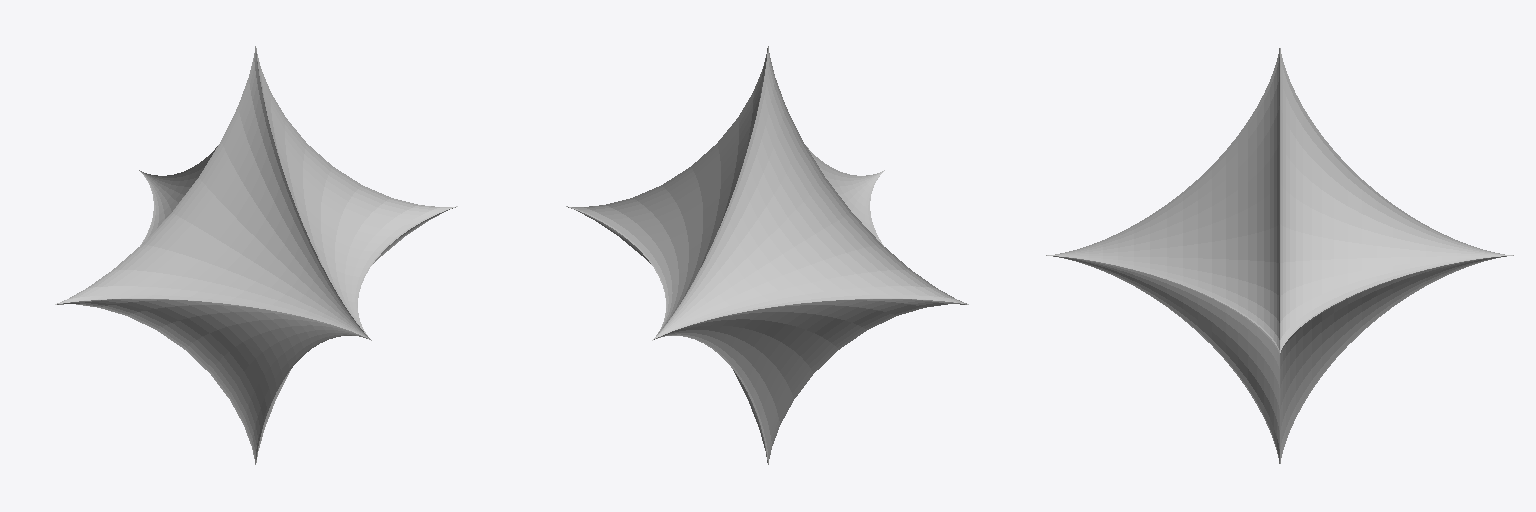
Rendered from hexahedron.obj.
The picture shows the model from 3 angles: view 1: azimuth 30°, elevation 25°; view 2: azimuth 150°, elevation 25°; view 3: azimuth 270°, elevation 25°; orthographic projection.
Parts seen in each view (by area): view 1: XYZ_Function.003; view 2: XYZ_Function.003; view 3: XYZ_Function.003.
Boxes of the visible parts, <box> form: XYZ_Function.003: <box>55,46,457,464</box>; XYZ_Function.003: <box>566,46,968,464</box>; XYZ_Function.003: <box>1046,48,1513,463</box>.
Bounding box in the file's own units: 2 × 2 × 1.99.